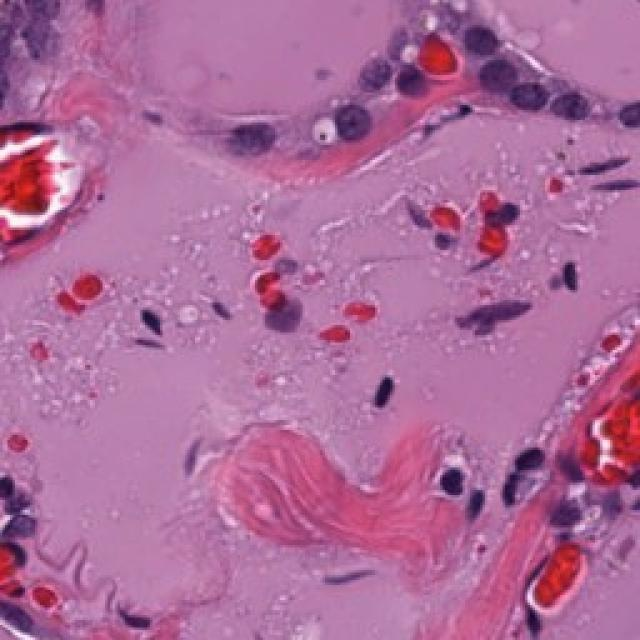normal: (208, 97, 288, 187), (441, 0, 517, 81), (384, 47, 443, 125), (547, 68, 609, 139), (316, 92, 374, 166), (472, 40, 531, 111), (345, 47, 405, 116), (503, 61, 559, 120)
